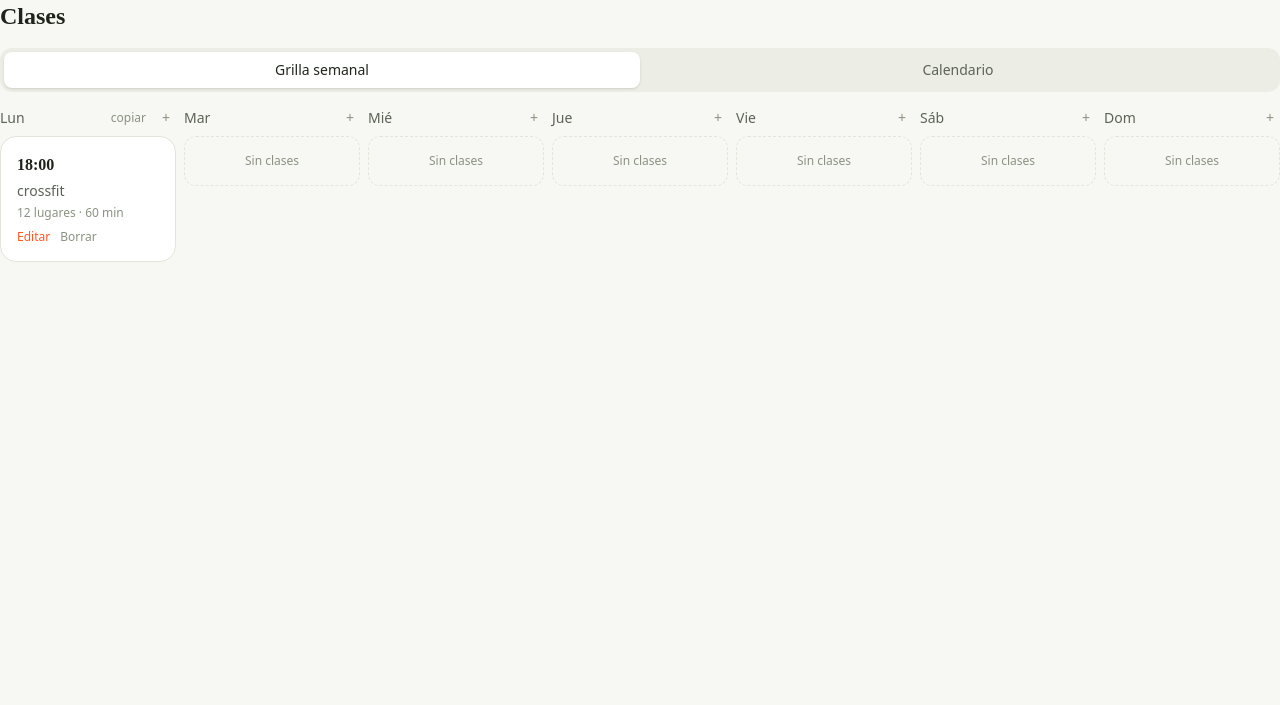
Classes — calendario (F3-06) › el detalle lista los anotados con la hora en que reservaron
This screenshot has width=1280, height=705.
Click the button "Calendario". click: (958, 70)
box: [640,52,1276,88]
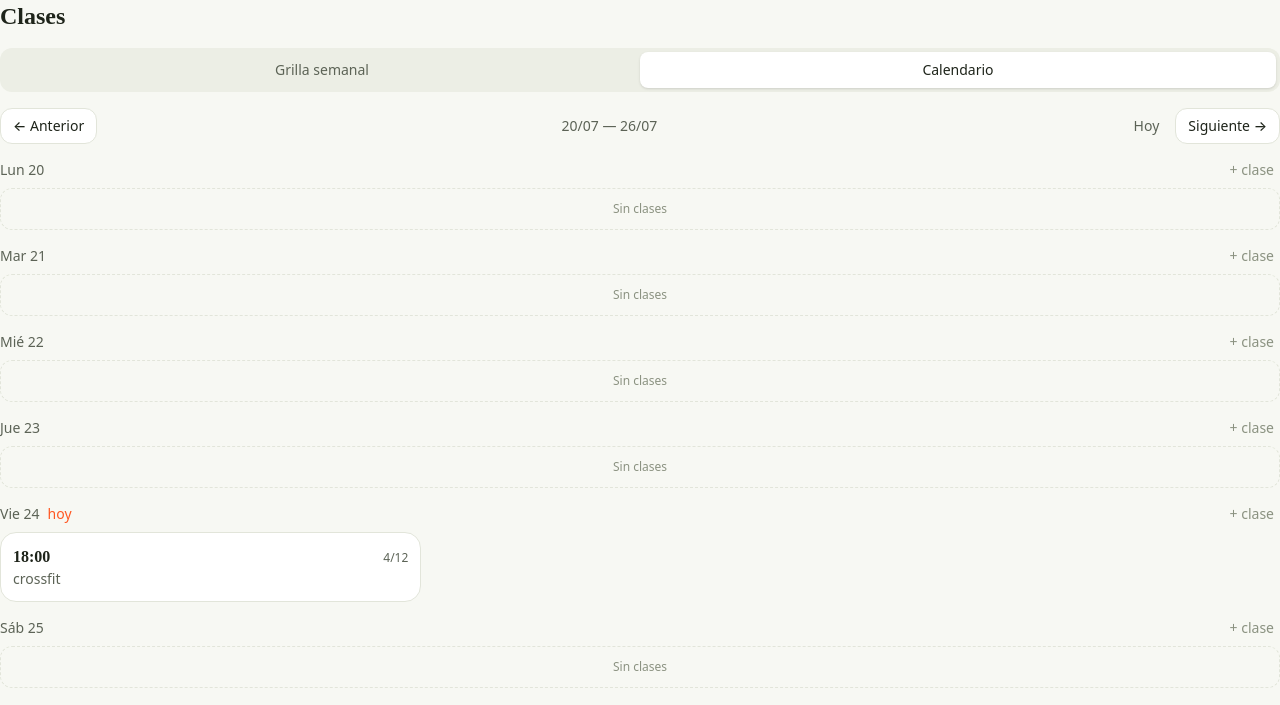
Click the text "18:00". click: (32, 557)
box: [13,545,50,569]
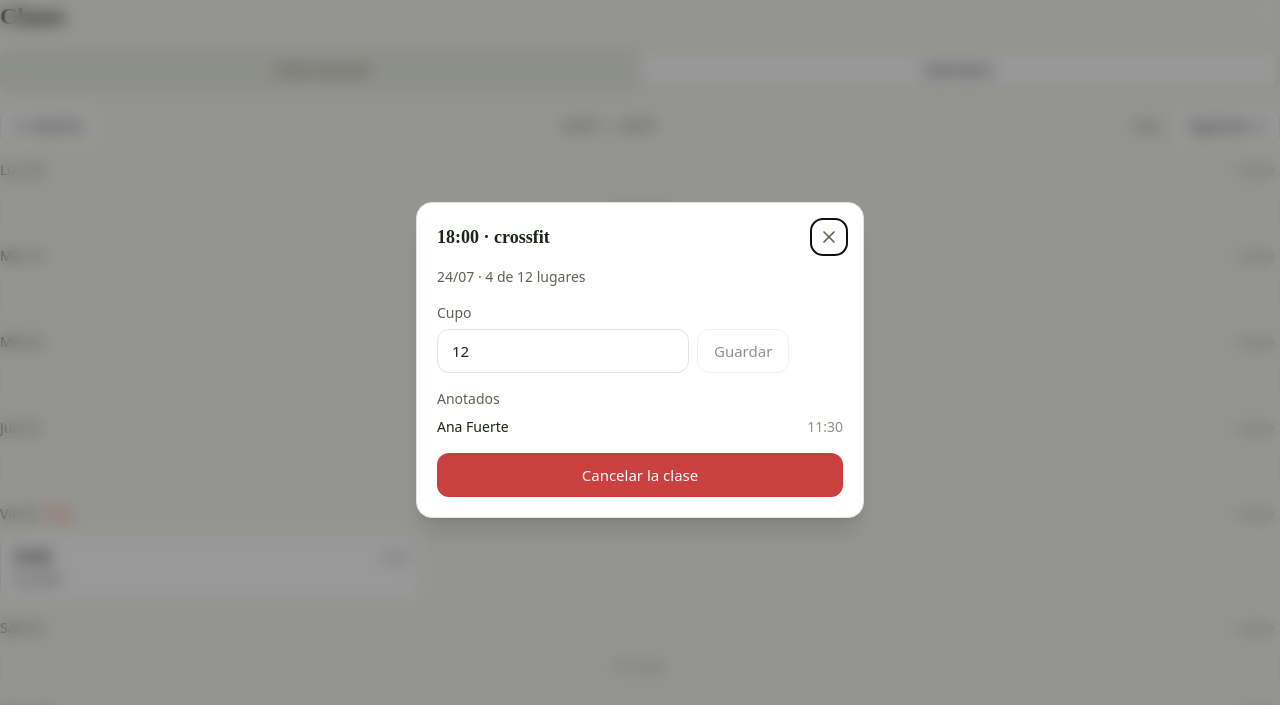
Expected: the text "Ana Fuerte" is shown, [437,417,509,437]
Expected: the text "11:30" is shown, [807,417,843,437]
